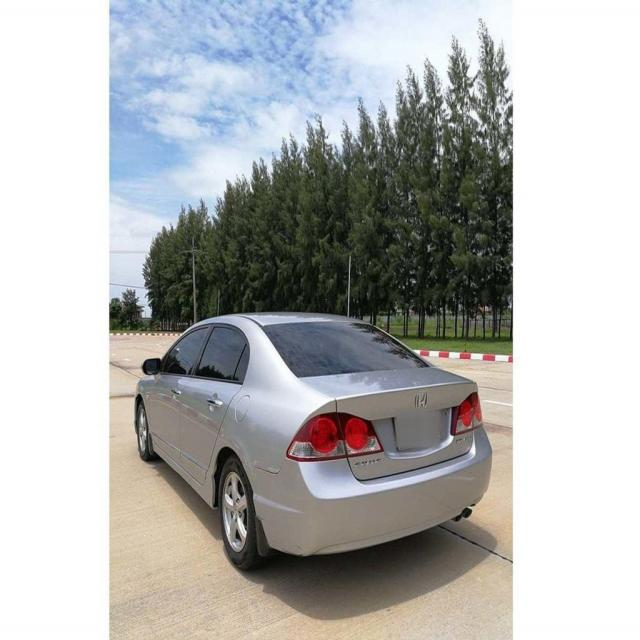back_bumper: (240, 428, 495, 557)
back_glass: (261, 323, 430, 376)
back_left_door: (179, 324, 250, 485)
back_left_light: (284, 411, 381, 462)
back_right_light: (449, 387, 485, 435)
front_left_door: (149, 324, 212, 467)
left_mirror: (140, 357, 160, 374)
tailgate: (297, 367, 474, 482)
wheel: (219, 457, 271, 573), (137, 401, 149, 461)
